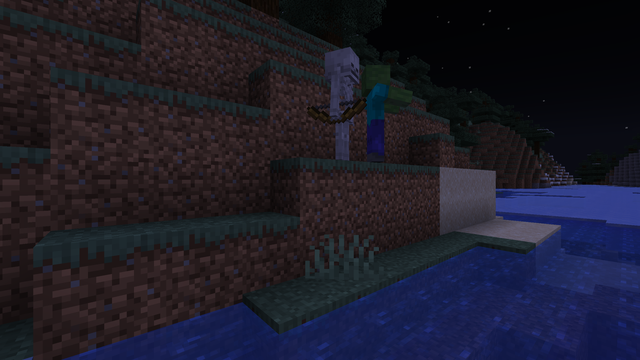squelettes: (320, 44, 364, 160)
zombies: (368, 63, 394, 162)
